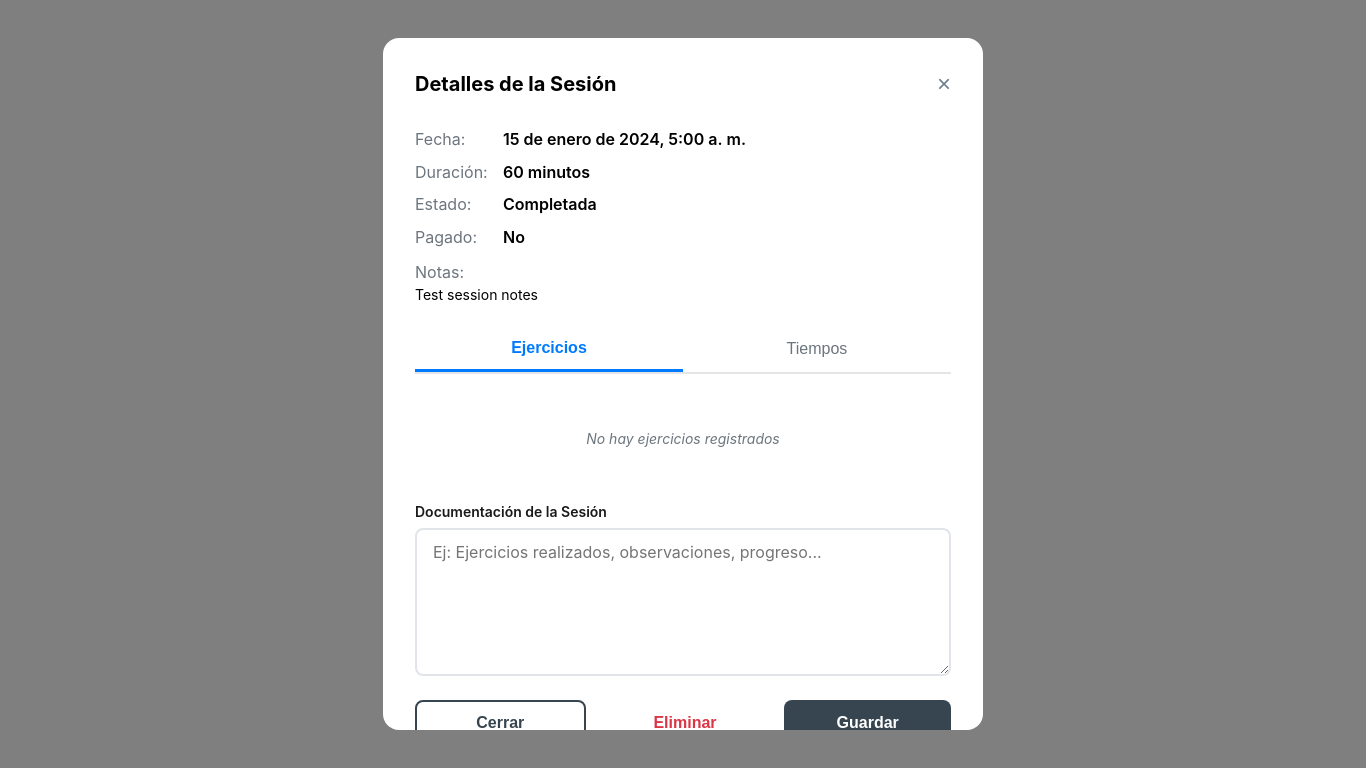
Test: SessionDetailModal › should display lap times when BMX exercises exist
Click on Tiempos tab
Click the button "Tiempos": (817, 349) [683,326,951,372]
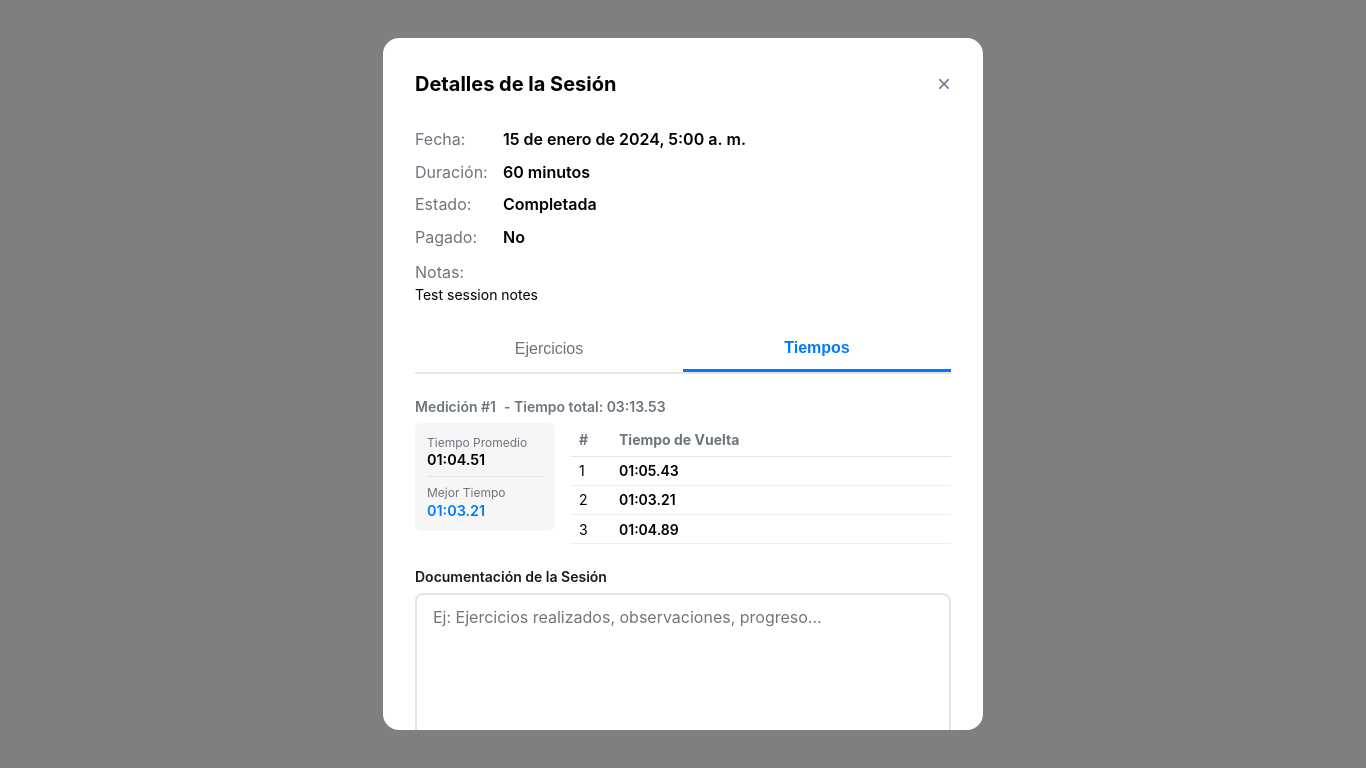
Now the text "Medición #1" is shown, box [415,398,666,414]
Now the text "Tiempo Promedio" is shown, box [427,434,543,450]
Now the text "Mejor Tiempo" is shown, box [427,485,506,500]
